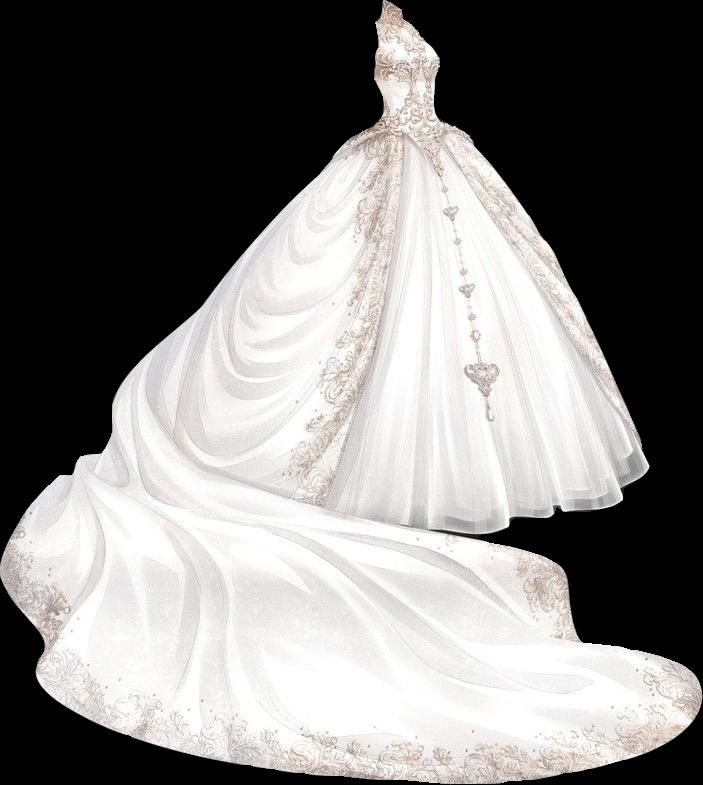Bodice: (374, 0, 453, 194)
Hemline: (446, 151, 648, 453), (172, 434, 650, 535), (318, 138, 408, 512)
Skirt: (171, 125, 648, 533)
Waistline: (375, 121, 458, 199)
